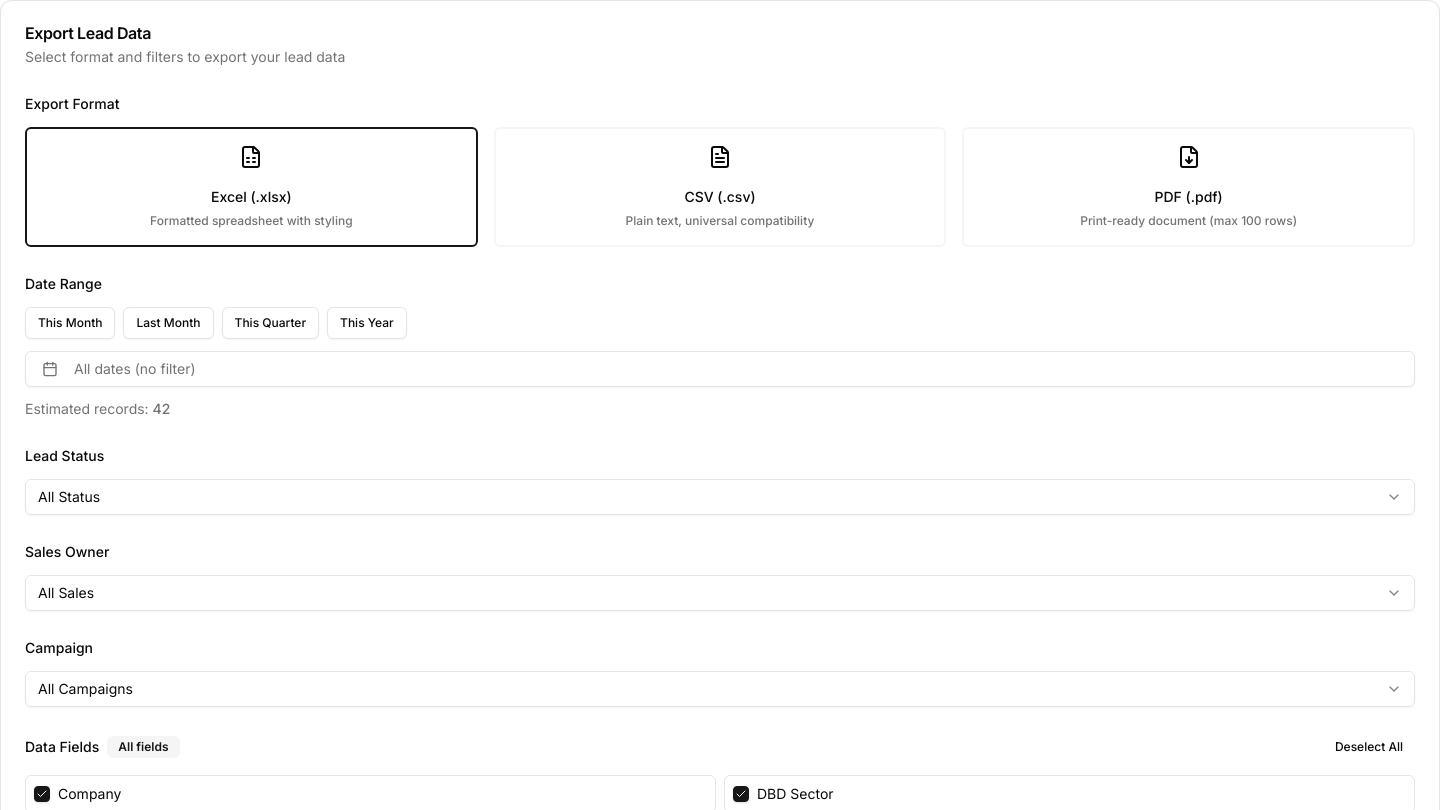
Test: [P1] ExportForm state transition guardrails › switching presets updates badge to new preset label
The width and height of the screenshot is (1440, 810).
Note: Select "This Month"
Click the button with test id "preset-thisMonth" at (70,323), box [25,307,116,339]
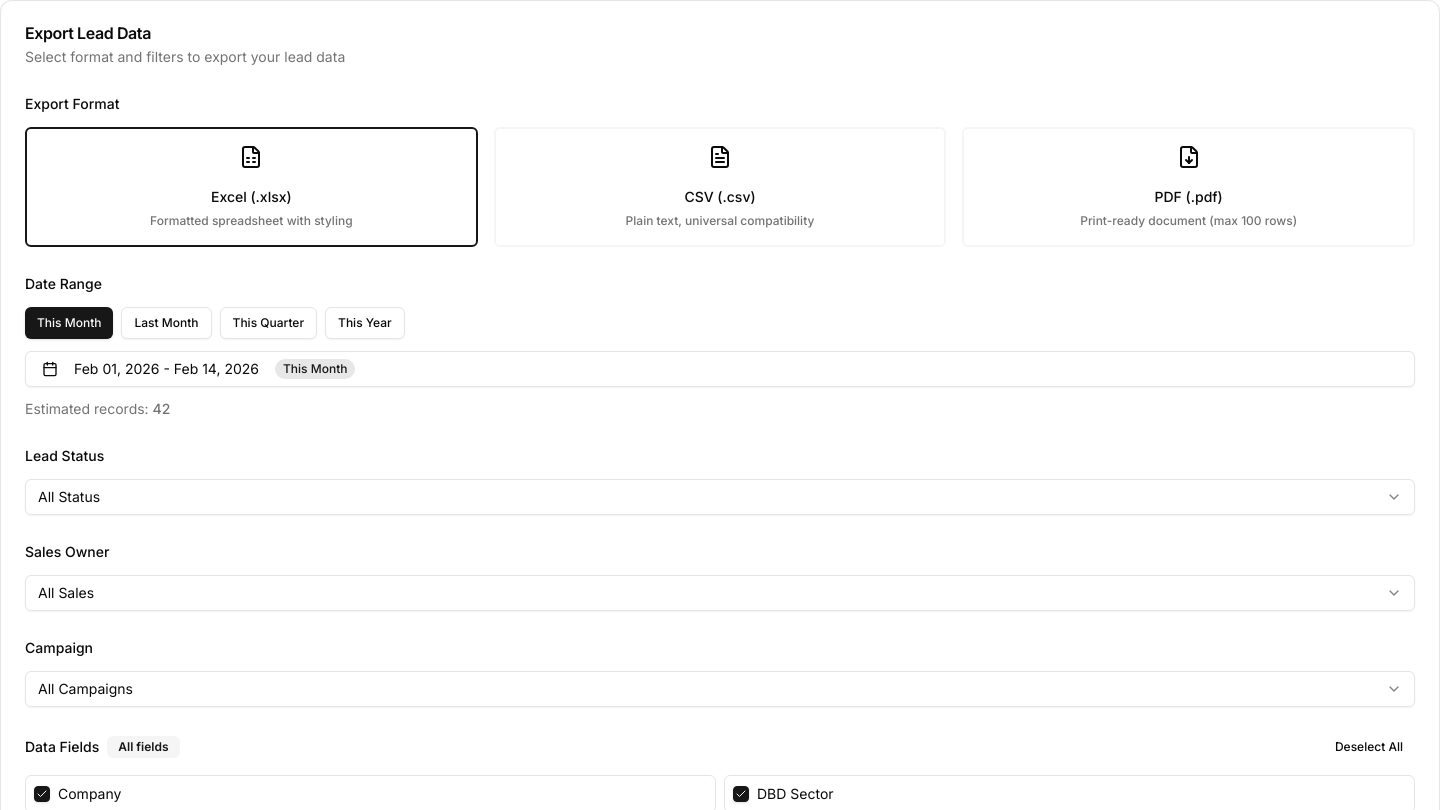
Check: the text with test id "preset-badge" reads "This Month", box [283,361,348,376]
Note: Switch to "This Quarter"
Click the button with test id "preset-thisQuarter" at (268,323), box [220,307,317,339]
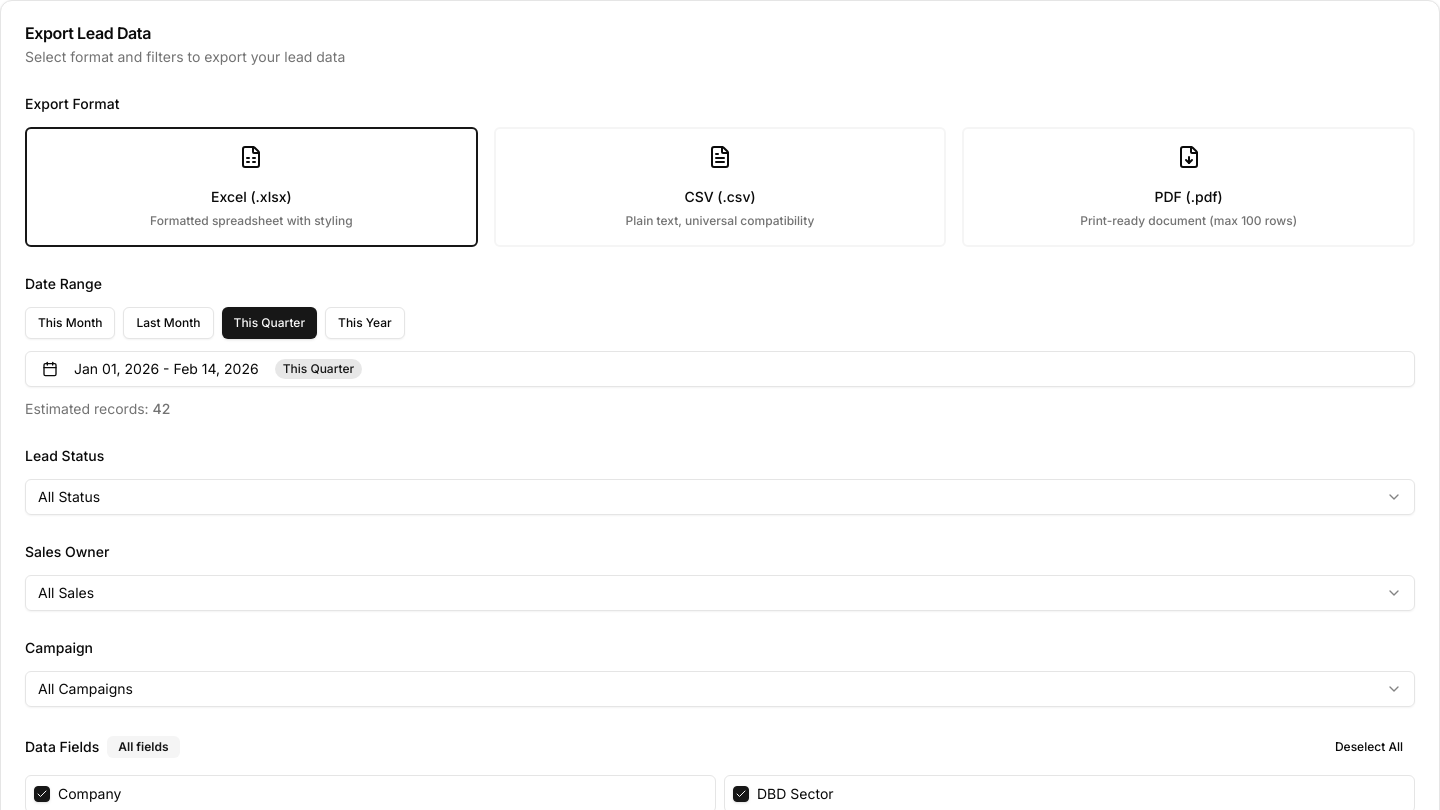
Check: the text with test id "preset-badge" reads "This Quarter", box [283,361,354,376]
